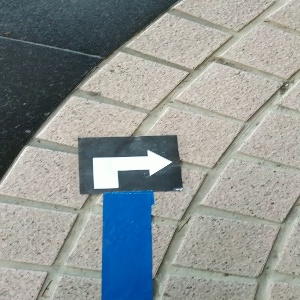right: (78, 137, 183, 190)
